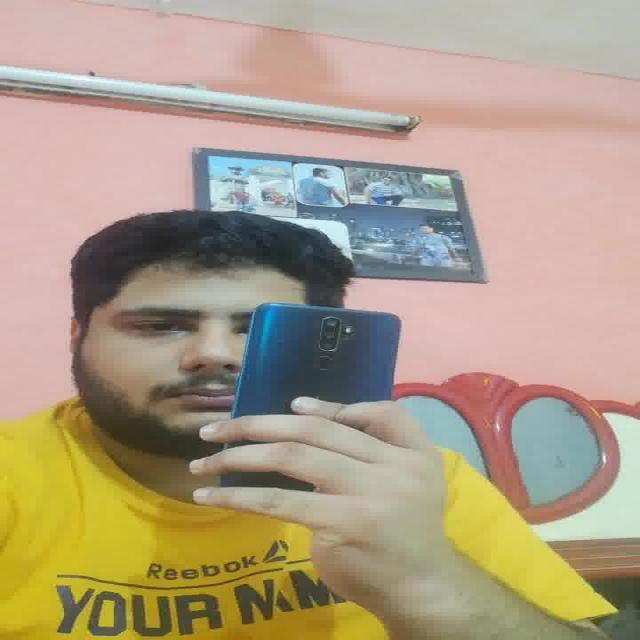phone: (234, 304, 404, 426)
